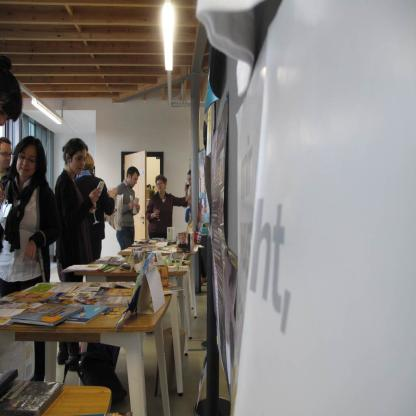book: (0, 277, 136, 328), (63, 236, 193, 270), (0, 376, 65, 416)
